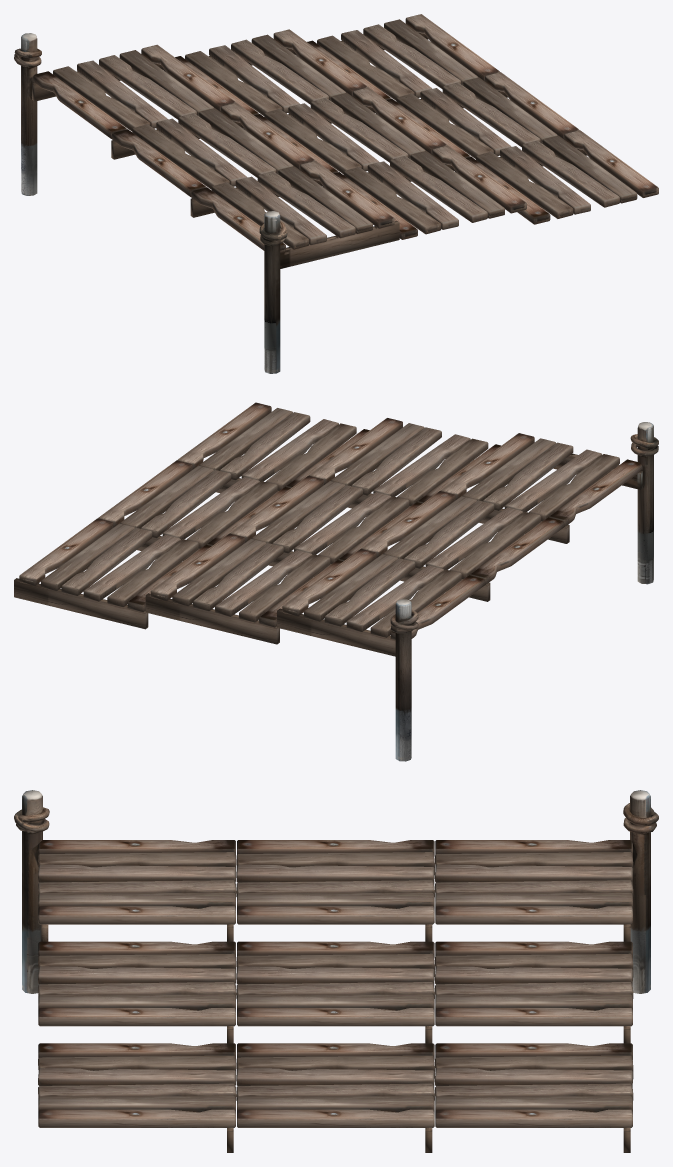
Rendered from dock-wood.fbx.
3 views of the same model, one above another, from view 1: azimuth 30°, elevation 25°; view 2: azimuth 150°, elevation 25°; view 3: azimuth 270°, elevation 25° (orthographic). The views are drawn at different scales.
Visible parts, largest first — view 1: Mesh_0.003; view 2: Mesh_0.003; view 3: Mesh_0.003.
Part boxes in pixels (left/top/right/bottom): Mesh_0.003: left=14, top=14, right=658, bottom=373; Mesh_0.003: left=14, top=402, right=658, bottom=761; Mesh_0.003: left=14, top=790, right=658, bottom=1152.
Bounding box in the file's own units: 703 × 257 × 769.
